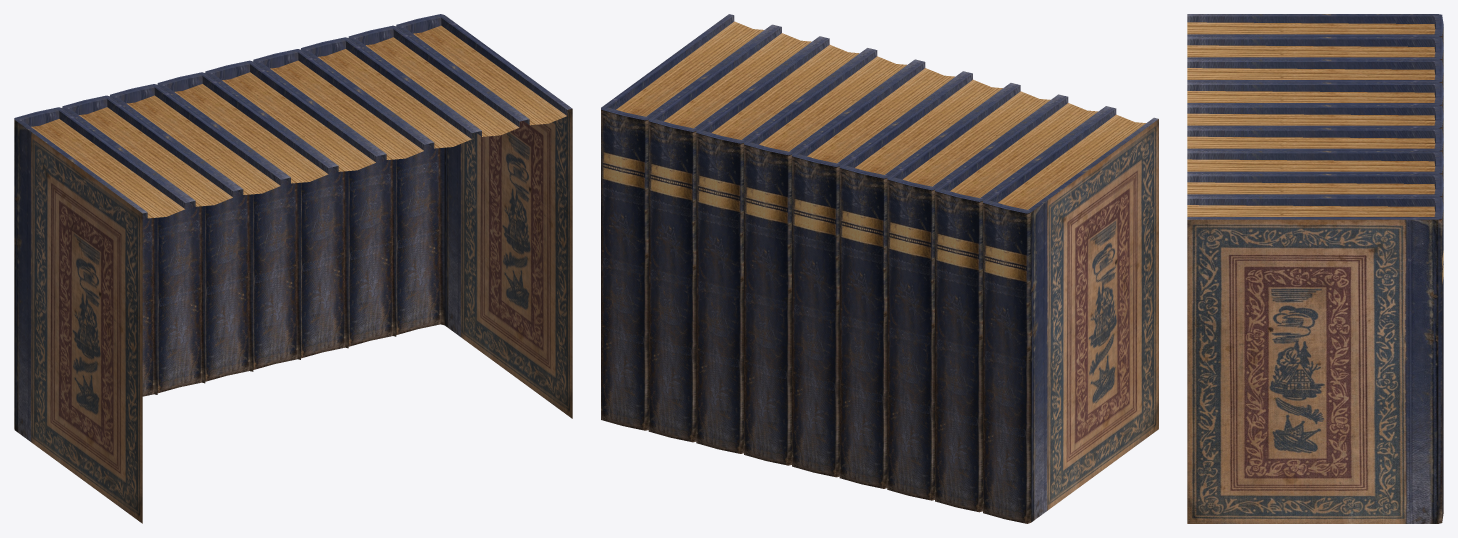
File: PROPS_booksCollection_02.FBX
The picture shows the model from 3 angles, left to right: view 1: azimuth 30°, elevation 25°; view 2: azimuth 150°, elevation 25°; view 3: azimuth 270°, elevation 25°; orthographic projection. The views are drawn at different scales.
Visible parts, largest first — view 1: PROPS_booksCollection_02; view 2: PROPS_booksCollection_02; view 3: PROPS_booksCollection_02.
Part boxes in pixels (x1,y1,x2,y2): PROPS_booksCollection_02: [14, 14, 572, 523]; PROPS_booksCollection_02: [601, 14, 1158, 523]; PROPS_booksCollection_02: [1187, 14, 1443, 523].
Bounding box in the file's own units: 42.03 × 29 × 22.15.
1 material, 1 textured.
